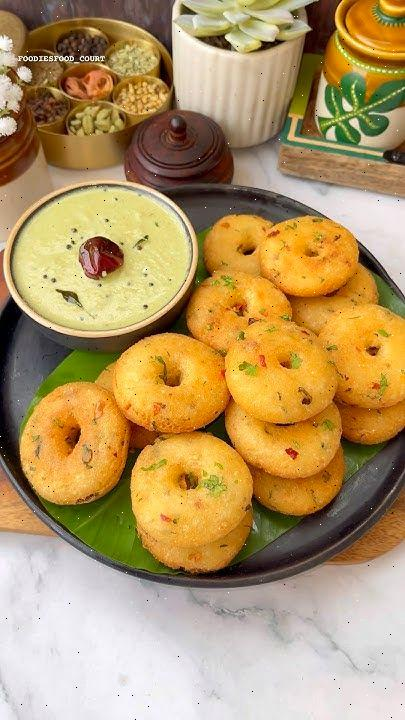coconut chutney: (19, 199, 187, 328)
medu vada: (192, 214, 405, 535), (23, 349, 236, 572)
